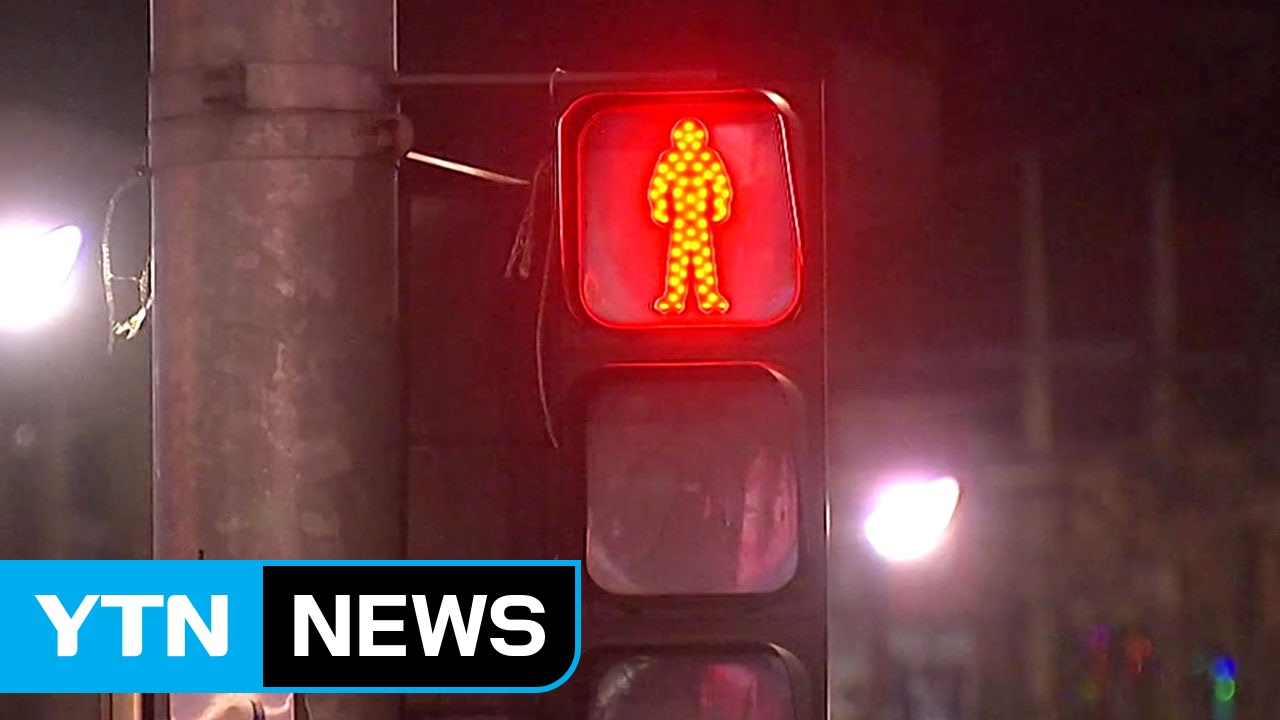traffic_light: (559, 72, 820, 624)
